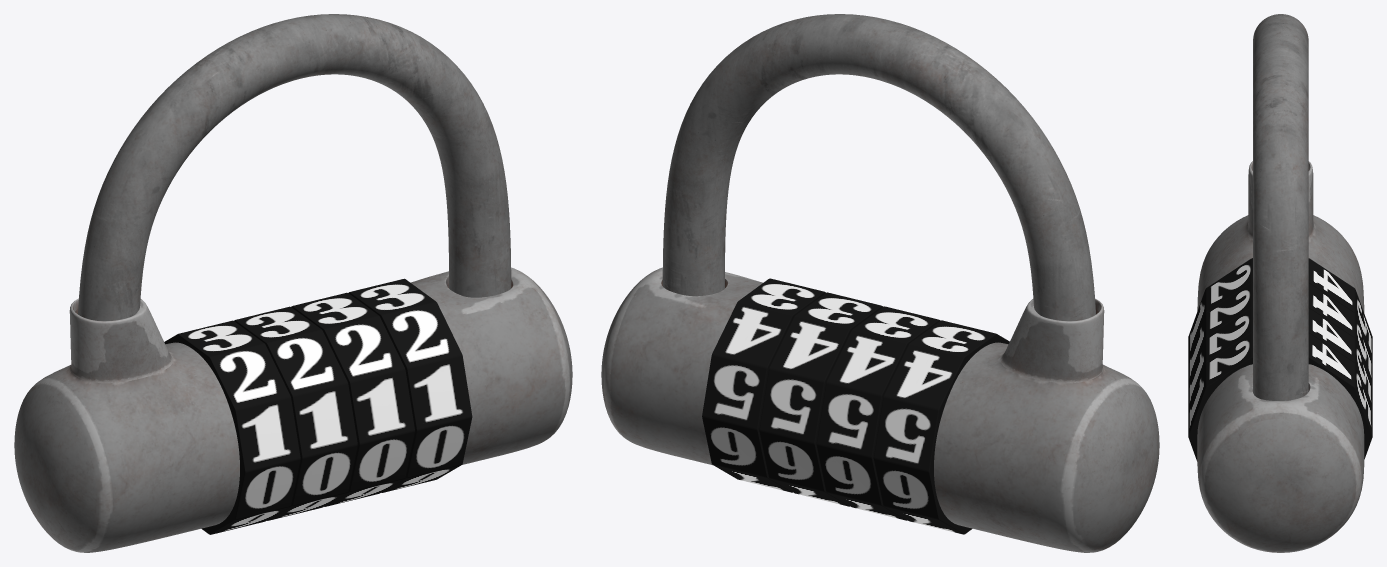
File: Lock_with_code_1.fbx
3 views of the same model, side by side, from view 1: azimuth 30°, elevation 25°; view 2: azimuth 150°, elevation 25°; view 3: azimuth 270°, elevation 25° (orthographic). The views are drawn at different scales.
Parts seen in each view (by area): view 1: lowerBody, upperBody, ger1, ger3, ger4, ger2; view 2: lowerBody, upperBody, ger1, ger4, ger2, ger3; view 3: lowerBody, upperBody, ger4, ger2, ger3, ger1.
Part boxes in pixels (box(x1,y1,x2,y2)): lowerBody: box(14, 267, 572, 552); upperBody: box(78, 14, 511, 321); ger1: box(164, 320, 300, 534); ger3: box(291, 292, 414, 506); ger4: box(348, 278, 472, 492); ger2: box(234, 306, 357, 520); lowerBody: box(601, 267, 1159, 552); upperBody: box(662, 14, 1095, 321); ger1: box(873, 320, 1009, 534); ger4: box(702, 278, 825, 492); ger2: box(816, 306, 940, 520); ger3: box(759, 292, 883, 506); lowerBody: box(1197, 161, 1364, 552); upperBody: box(1253, 14, 1308, 400); ger4: box(1188, 333, 1372, 461); ger2: box(1188, 283, 1372, 385); ger3: box(1188, 308, 1372, 410); ger1: box(1188, 258, 1372, 360).
Size of the model in its own units: 6.91 by 6.11 by 2.39.
